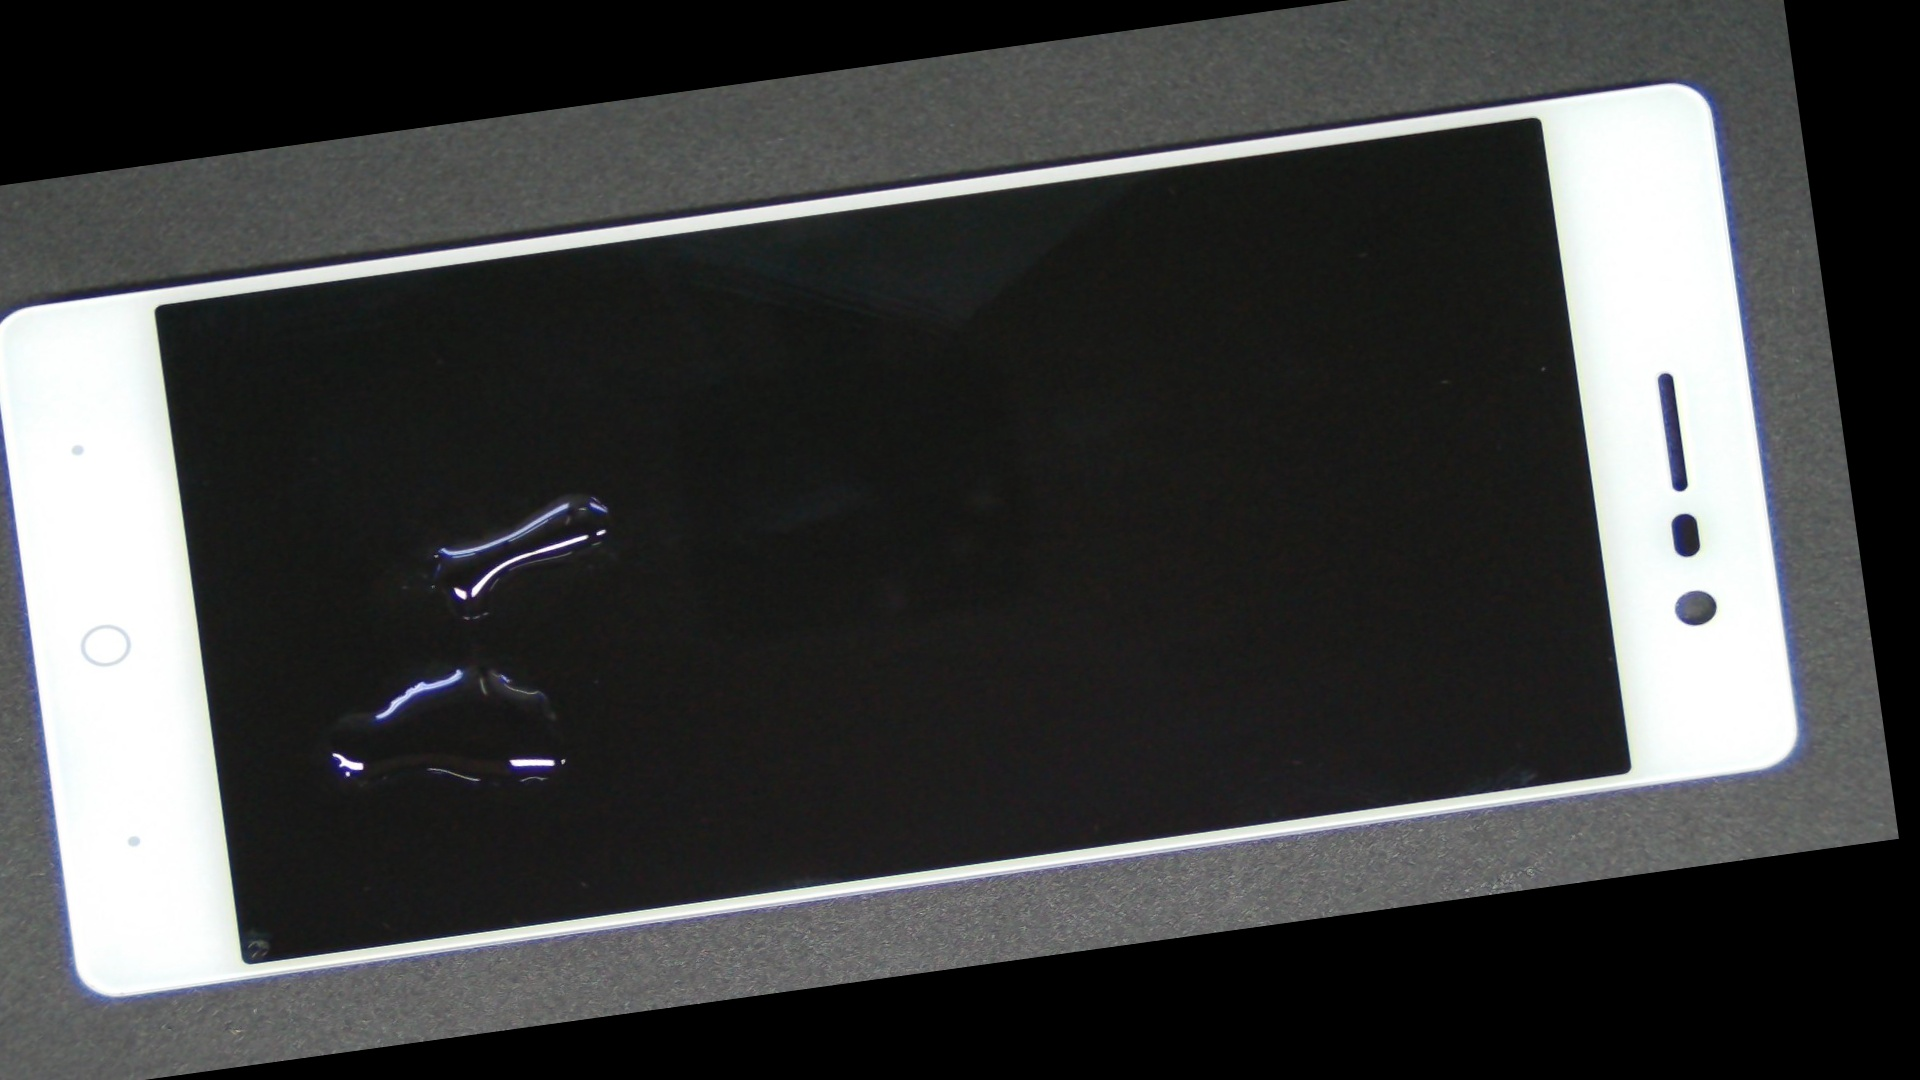oil: (169, 348, 790, 940), (218, 257, 936, 731)
